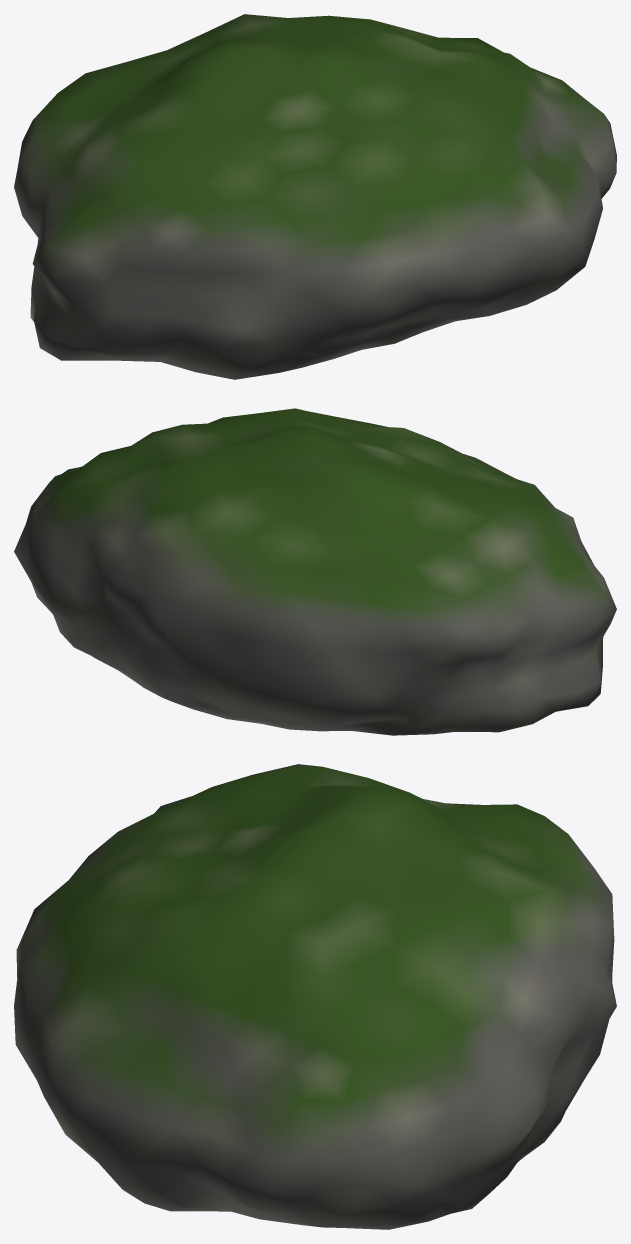
Rendered from Rock.glb.
3 views of the same model, one above another, from view 1: azimuth 30°, elevation 25°; view 2: azimuth 150°, elevation 25°; view 3: azimuth 270°, elevation 25° (orthographic). The views are drawn at different scales.
Visible parts, largest first — view 1: Stone; view 2: Stone; view 3: Stone.
Boxes of the visible parts, left/top/right/bottom form: Stone: left=14, top=14, right=616, bottom=379; Stone: left=14, top=408, right=616, bottom=735; Stone: left=14, top=764, right=616, bottom=1229.
Bounding box in the file's own units: 2.36 × 0.8705 × 1.76.
